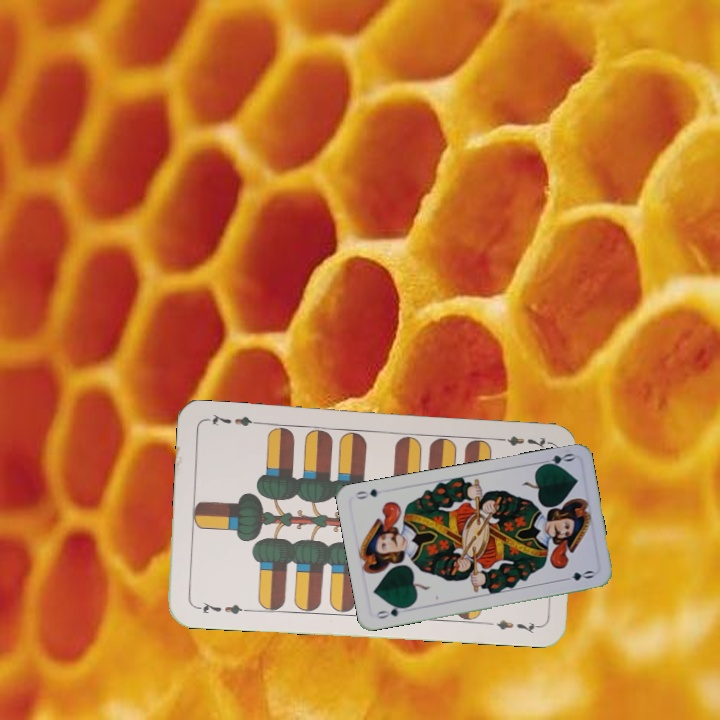E7: (191, 597, 251, 617), (491, 432, 550, 451)
GO: (536, 449, 576, 469), (373, 602, 411, 621)
